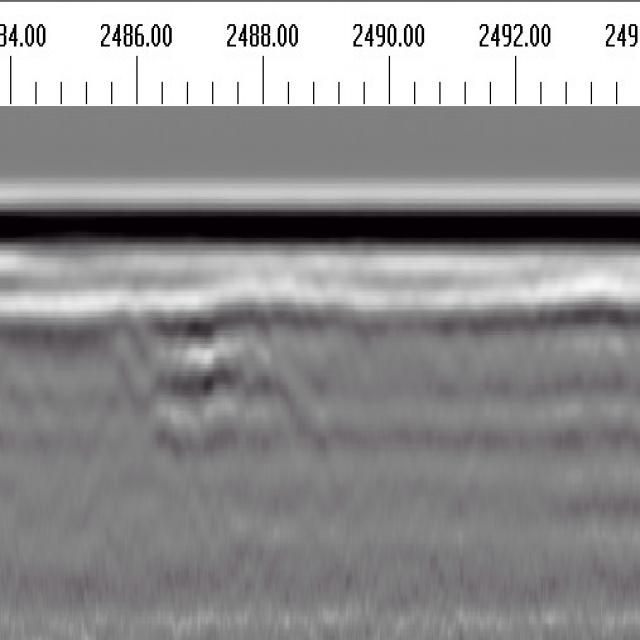loose: (144, 297, 317, 444)
